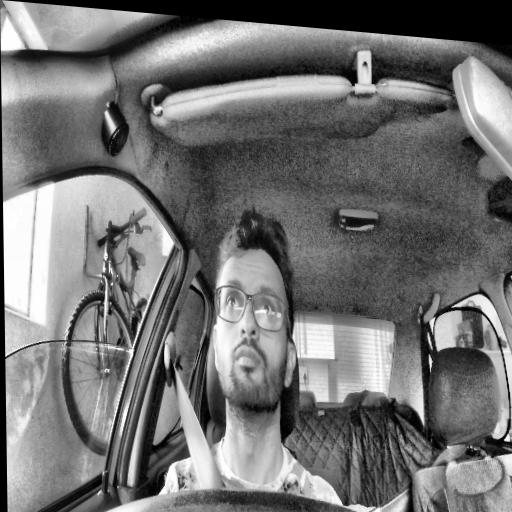awake: (210, 210, 297, 415)
